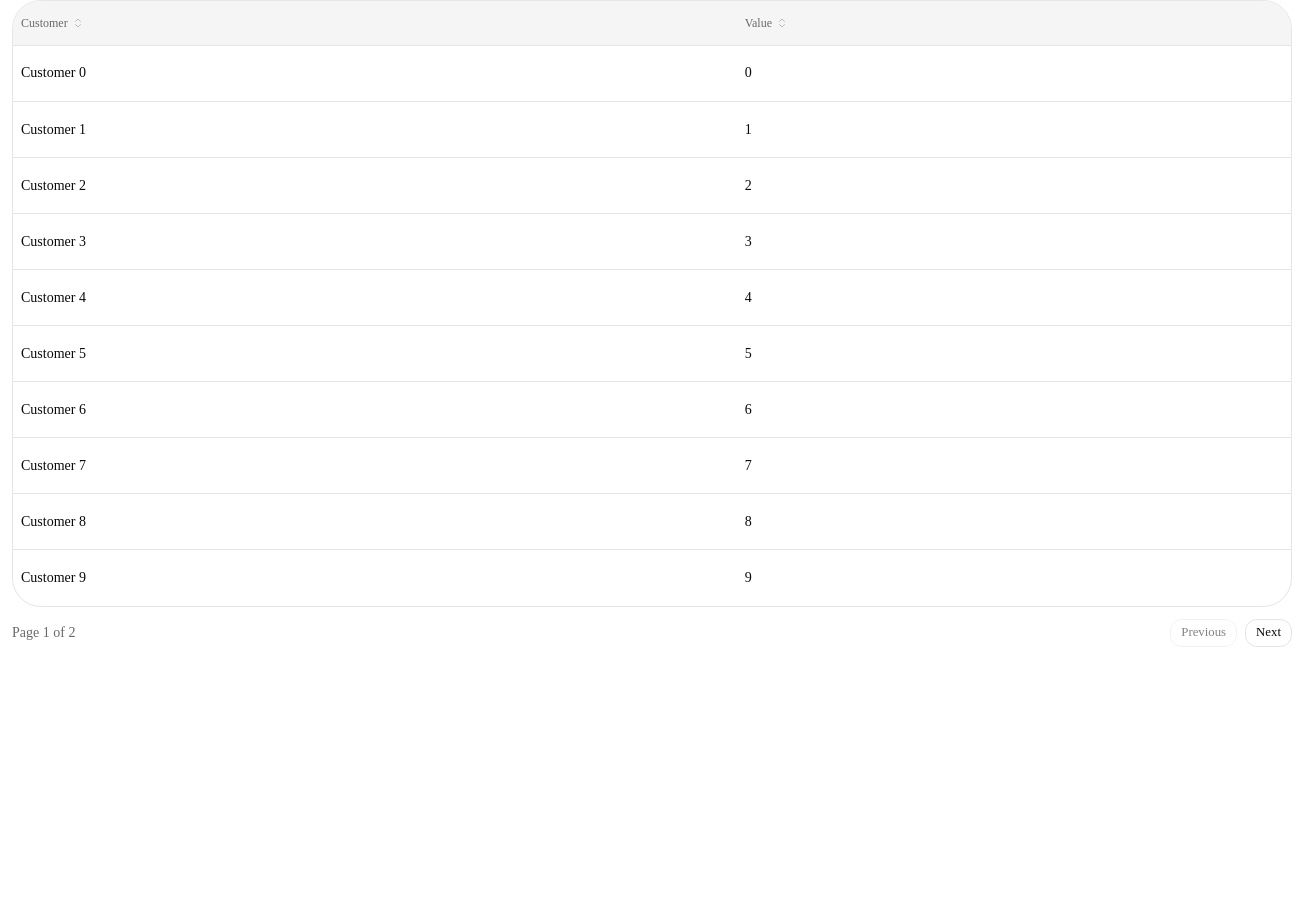
Test: DataTable — pagination › pages through longer sets
Expected: the text "Page 1 of 2" is shown, [12,622,75,642]
Expected: the button "Previous" is disabled, [1170,618,1237,646]
Click the button "Next".
click(1269, 632)  # box [1245,618,1292,646]
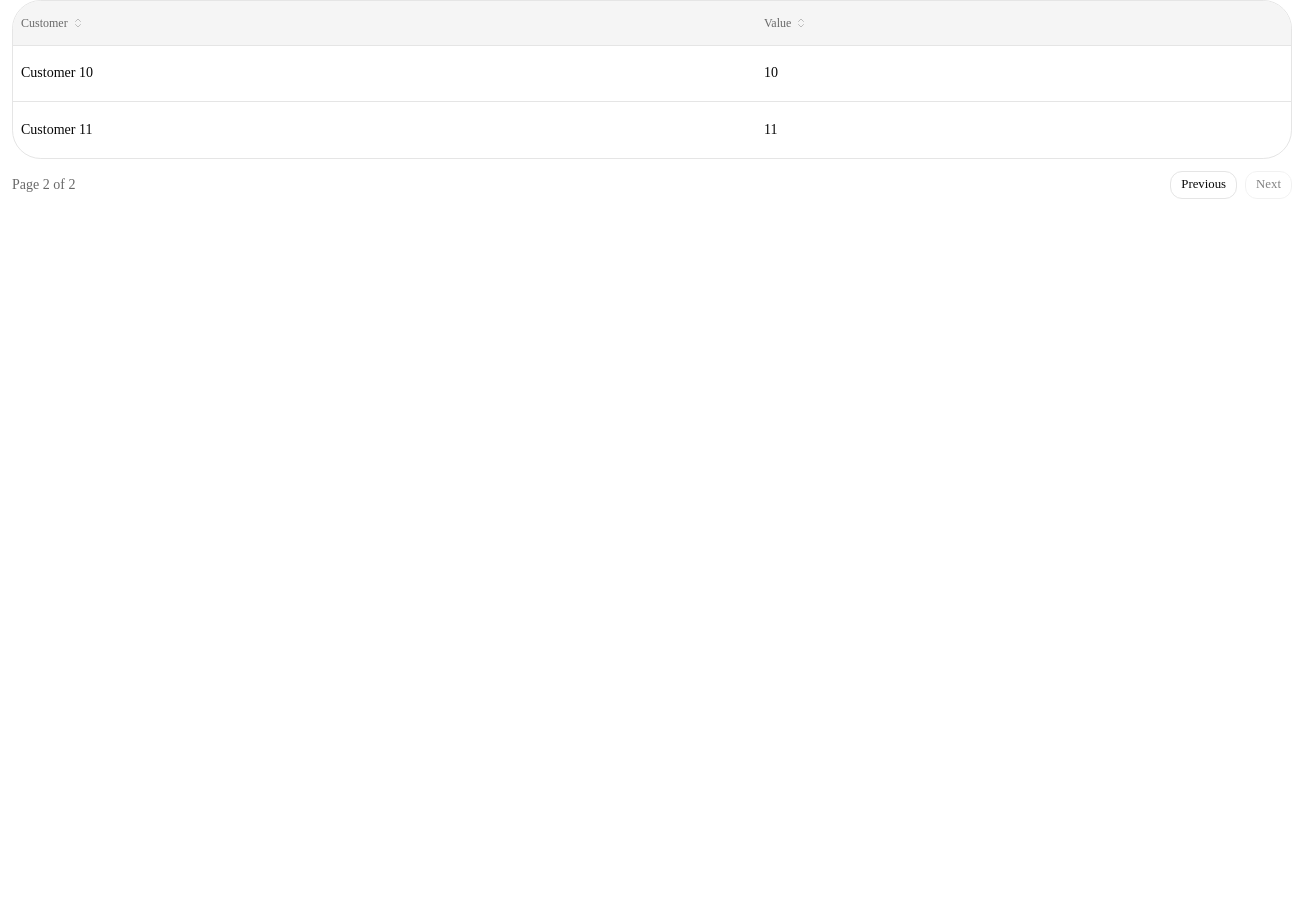
Expected: the text "Page 2 of 2" is shown, [12,174,75,194]
Expected: the button "Next" is disabled, [1245,170,1292,198]
